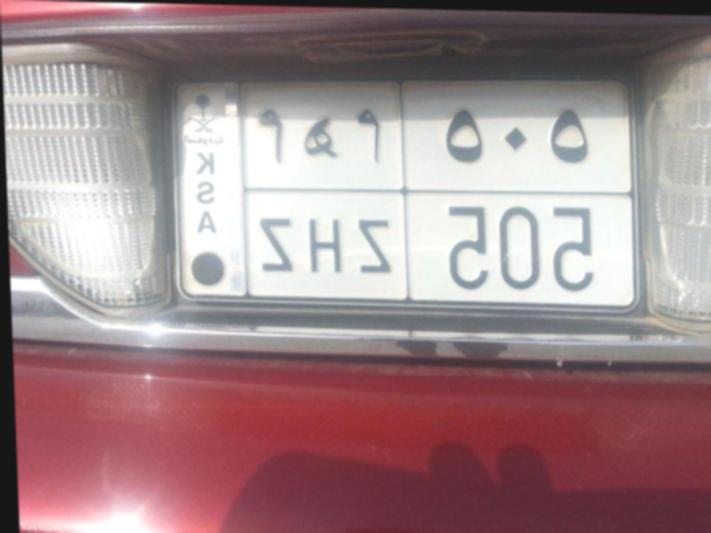License_Plate: (151, 43, 659, 331)
